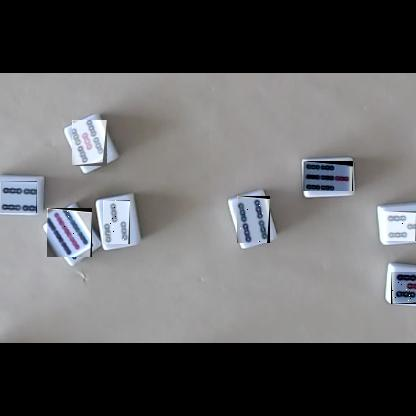3s: (103, 200, 130, 244), (383, 211, 416, 241)
4s: (237, 196, 270, 243), (0, 181, 37, 213)
5s: (72, 120, 107, 166), (391, 272, 416, 304)
7s: (303, 161, 353, 191)
9s: (47, 208, 92, 257)
